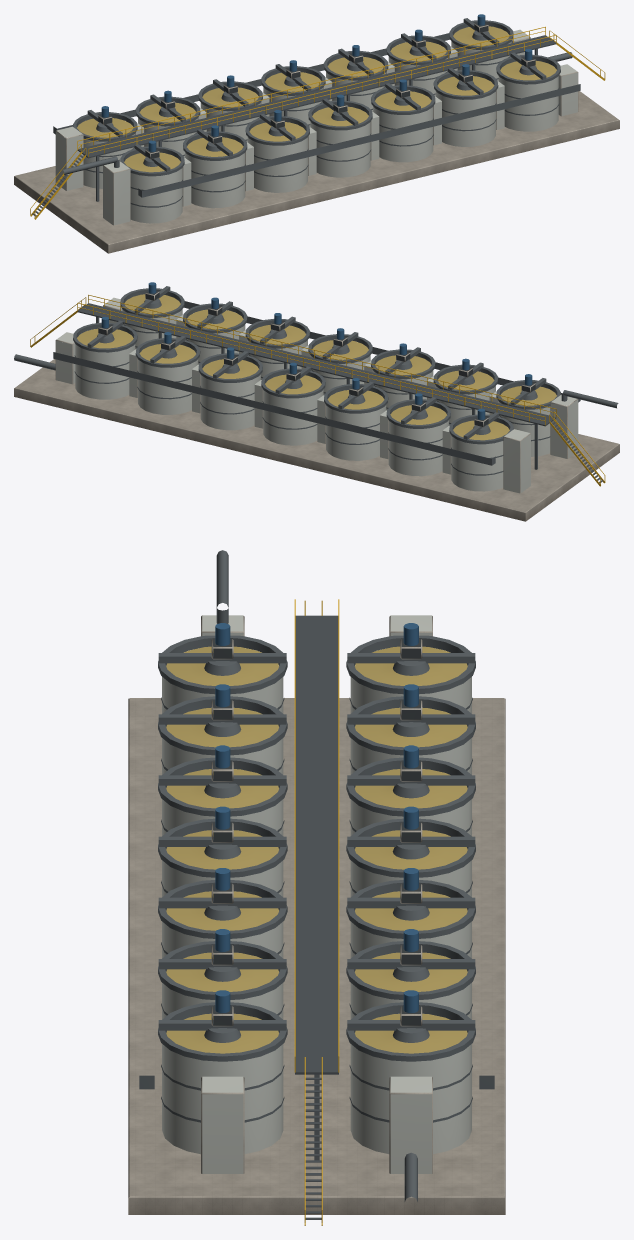
Rendered from flotation_lod0.glb.
3 renders of one model, top to bottom at view 1: azimuth 30°, elevation 25°; view 2: azimuth 150°, elevation 25°; view 3: azimuth 270°, elevation 25°, orthographic. The views are drawn at different scales.
Visible parts, largest first — view 1: flotation; view 2: flotation; view 3: flotation.
Part boxes in pixels (x1,y1,x2,y2): flotation: (14,14,619,253); flotation: (14,282,619,521); flotation: (128,550,505,1225).
Bounding box in the file's own units: 78.35 × 10.2 × 22.4.
8 materials, 1 textured.
